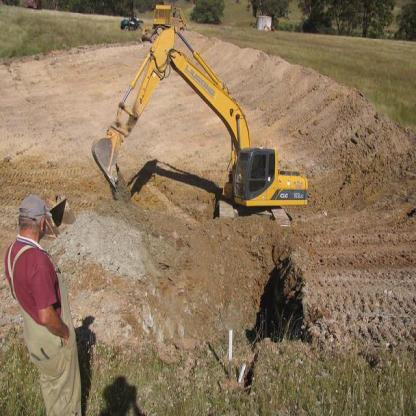excavator: (90, 18, 316, 236)
